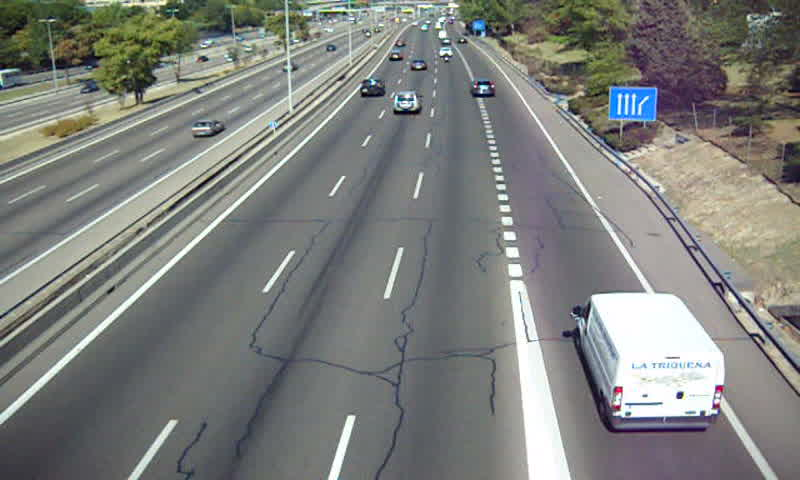car: (392, 92, 424, 115), (471, 79, 497, 99), (359, 79, 385, 99)
van: (574, 292, 730, 431)
